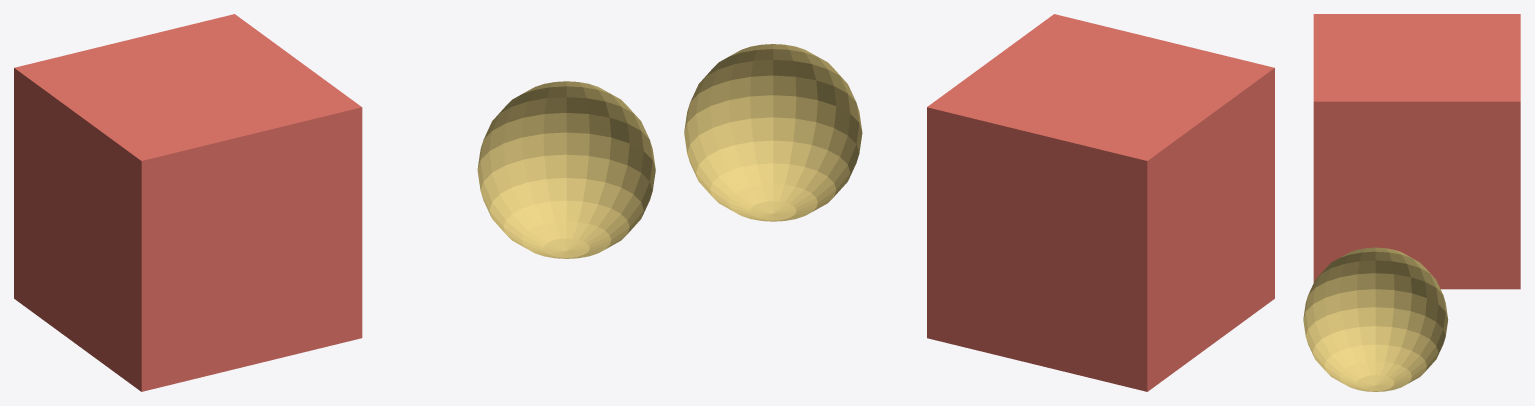
The model's file is demo.glb.
3 views of the same model, side by side, from view 1: azimuth 30°, elevation 25°; view 2: azimuth 150°, elevation 25°; view 3: azimuth 270°, elevation 25° (orthographic). The views are drawn at different scales.
Visible parts, largest first — view 1: Cube, Ball; view 2: Cube, Ball; view 3: Cube, Ball.
Boxes of the visible parts, x1,y1,x2,y2 form: Cube: [14, 14, 362, 391]; Ball: [477, 81, 655, 258]; Cube: [927, 14, 1274, 391]; Ball: [684, 44, 862, 221]; Cube: [1313, 14, 1520, 289]; Ball: [1303, 247, 1448, 391].
Size of what is drawn, in the model's own units: 2.45 by 1 by 1.05.
